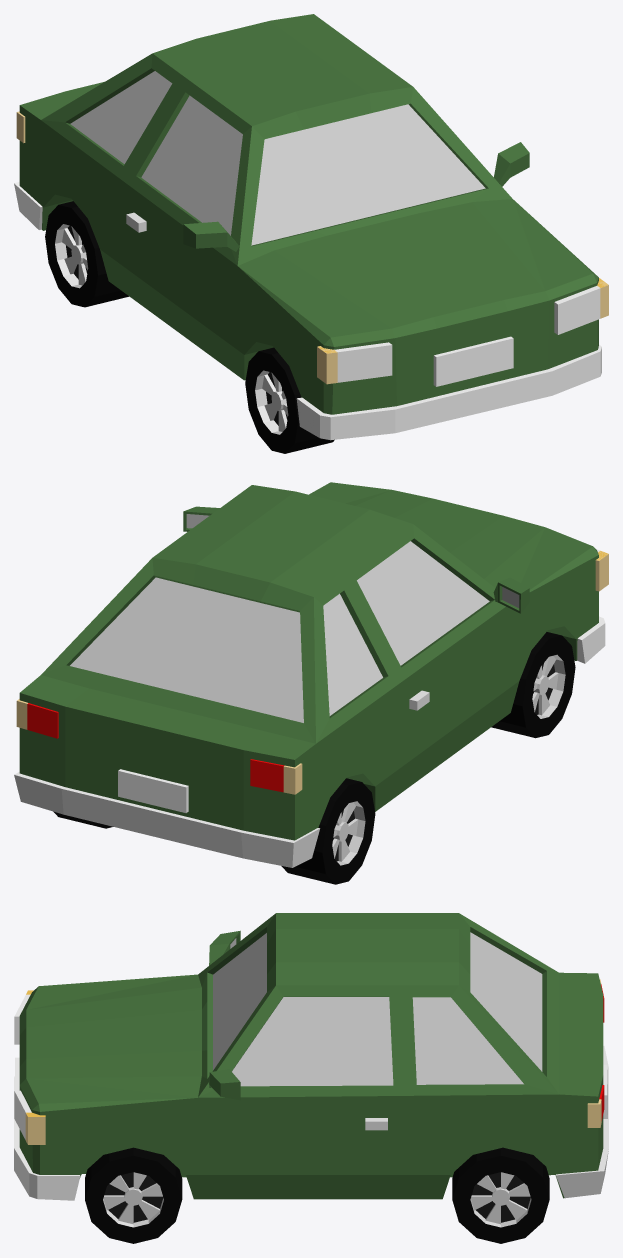
File: Car-12-C.fbx
3 views of the same model, one above another, from view 1: azimuth 30°, elevation 25°; view 2: azimuth 150°, elevation 25°; view 3: azimuth 270°, elevation 25° (orthographic). The views are drawn at different scales.
Visible parts, largest first — view 1: Car-12, BR, FR, Head-Light, Light-Right; view 2: Car-12, BR, FR, Break-Light, Light-Right; view 3: Car-12, FL, BL, Light-Left, Head-Light.
Boxes of the visible parts, x1,y1,x2,y2 form: Car-12: [14, 14, 607, 440]; BR: [45, 201, 128, 307]; FR: [245, 347, 334, 453]; Head-Light: [334, 286, 600, 382]; Light-Right: [16, 111, 337, 384]; Car-12: [14, 482, 608, 867]; BR: [281, 778, 375, 884]; FR: [491, 632, 575, 738]; Break-Light: [27, 703, 284, 792]; Light-Right: [283, 550, 608, 794]; Car-12: [14, 913, 608, 1200]; FL: [85, 1147, 182, 1243]; BL: [452, 1147, 549, 1243]; Light-Left: [25, 1099, 601, 1144]; Head-Light: [14, 994, 31, 1139].
Size of the model in its own units: 2.45 by 1.79 by 4.08.
